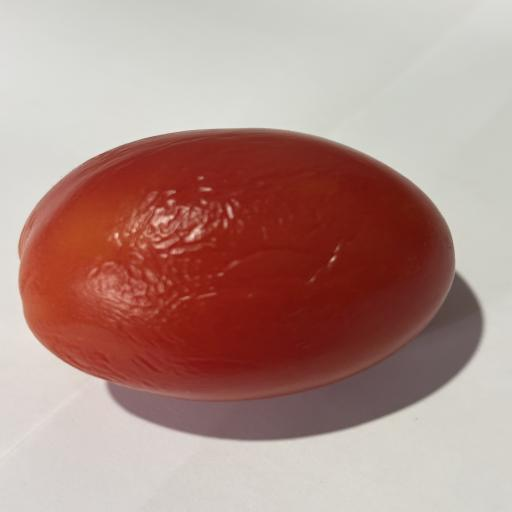spoiled: (19, 129, 454, 400)
